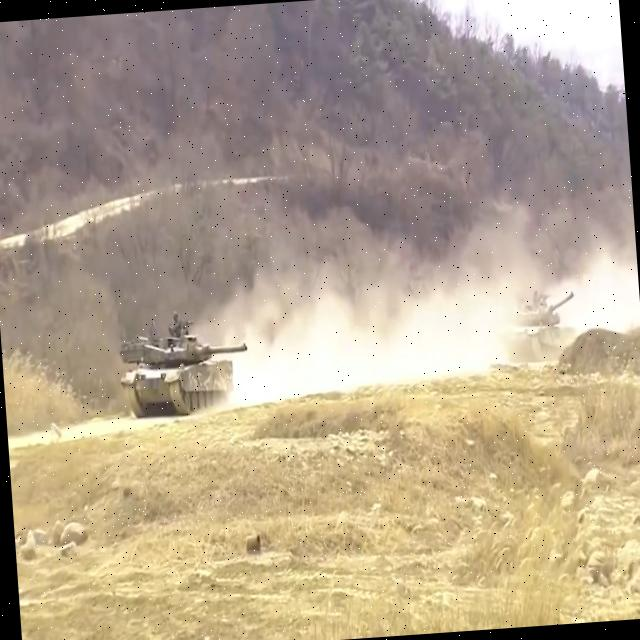korea tank: (113, 306, 252, 422)
